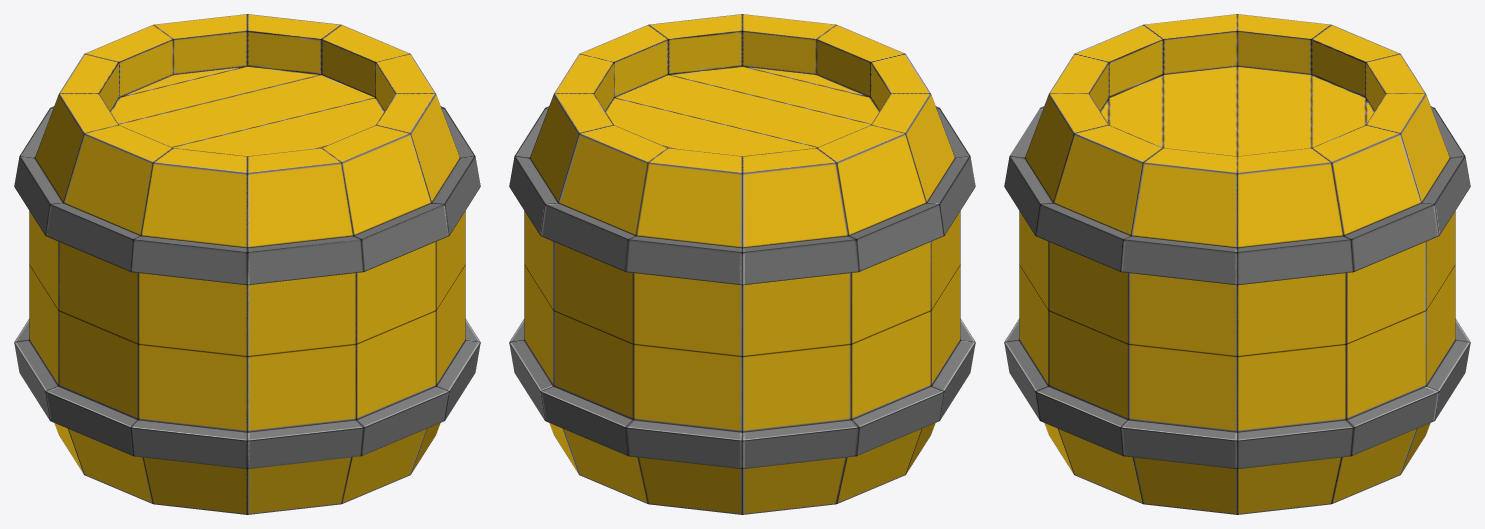
Rendered from barrel.fbx.
3 renders of one model, left to right at view 1: azimuth 30°, elevation 25°; view 2: azimuth 150°, elevation 25°; view 3: azimuth 270°, elevation 25°, orthographic.
Visible parts, largest first — view 1: Barrel; view 2: Barrel; view 3: Barrel.
Boxes of the visible parts, x1,y1,x2,y2 form: Barrel: (14,14,480,514); Barrel: (509,14,975,514); Barrel: (1004,14,1470,514).
Size of the model in its own units: 124 by 100 by 124.
